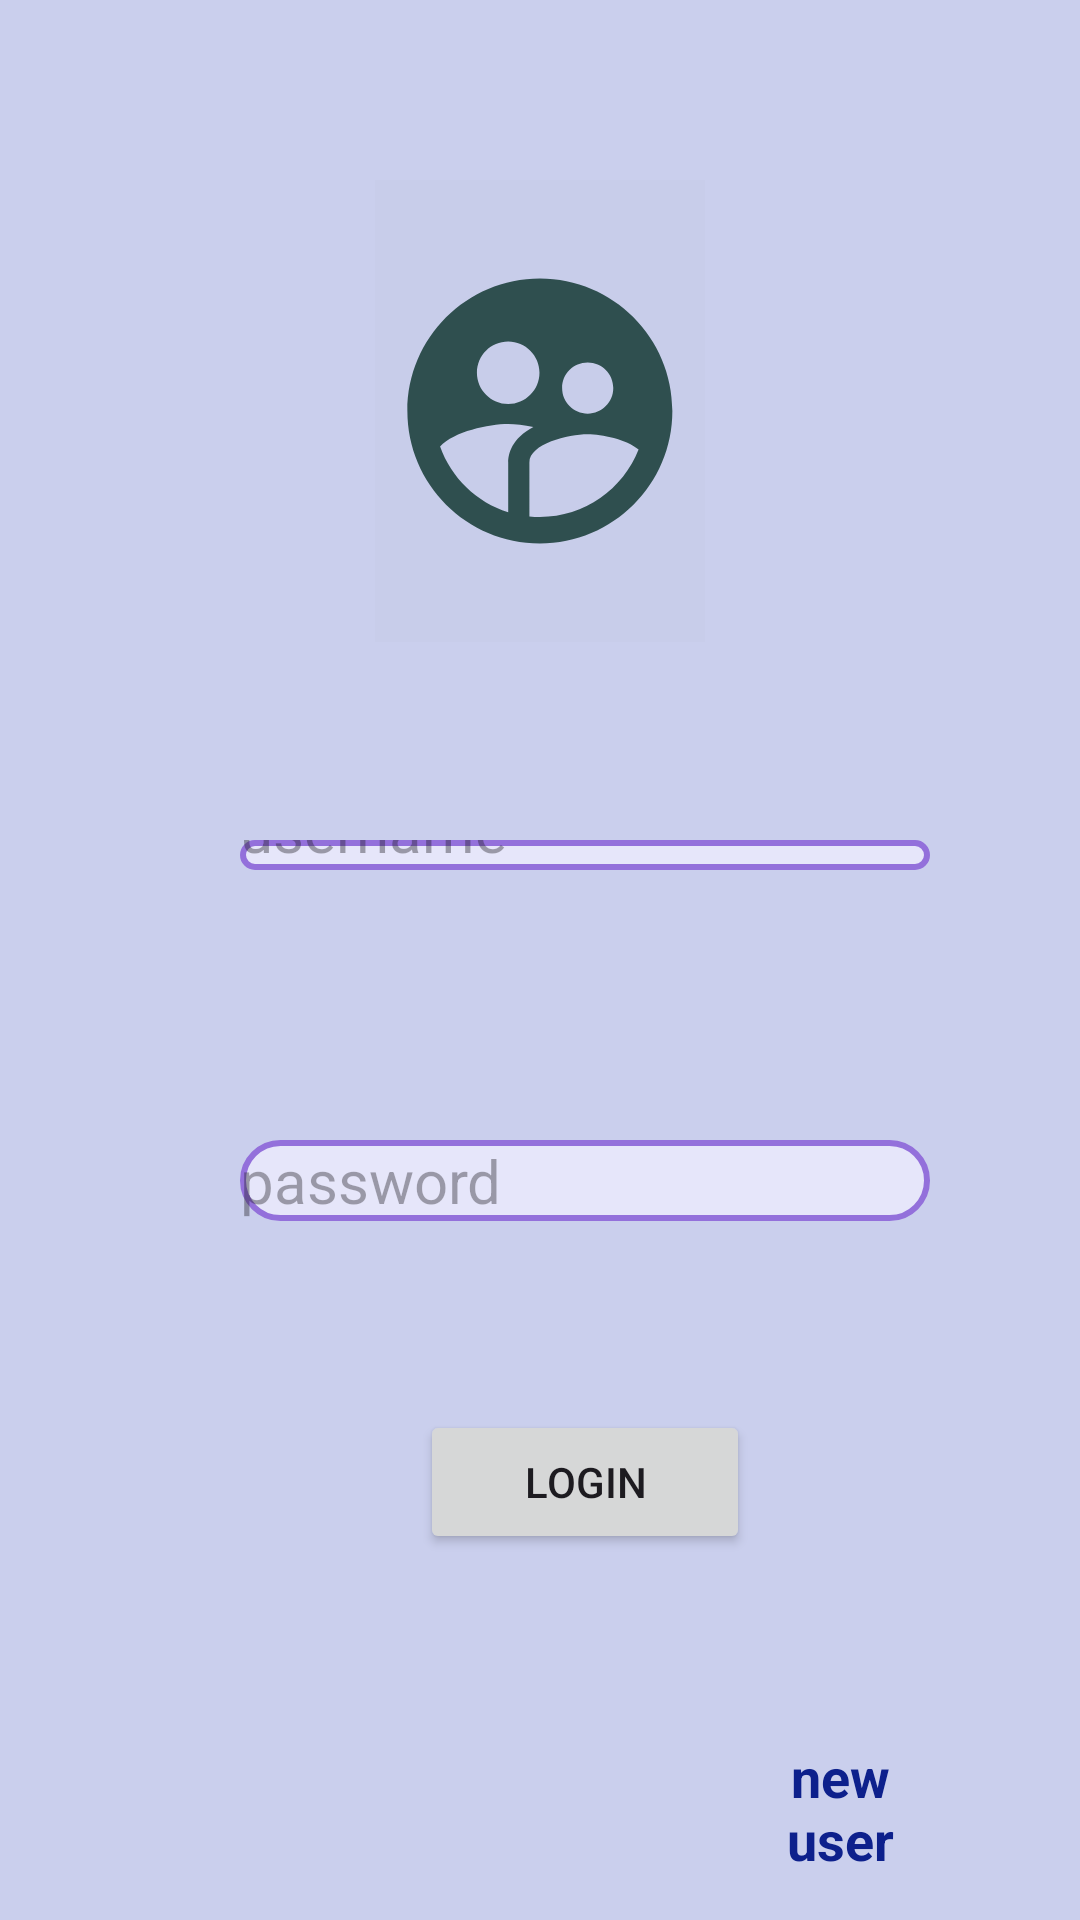

Named icons in this screenshot (1080 × 1920) and their bounding boxes, (x1, y1, x2, y2):
user: (407, 278, 673, 544)
